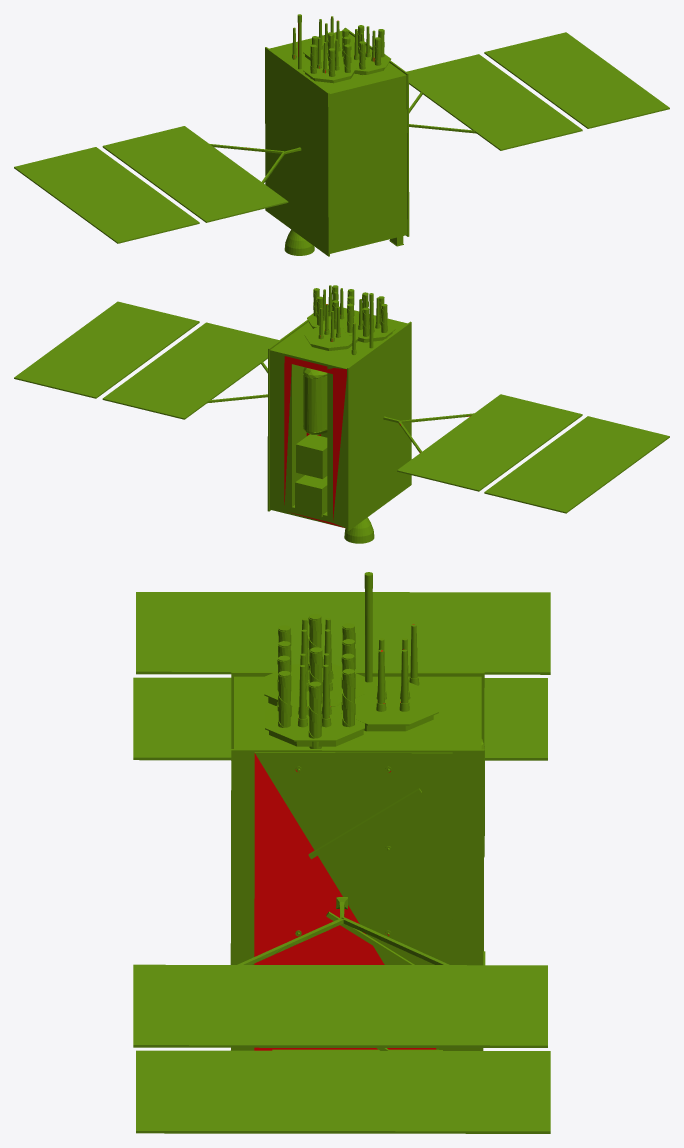
Rendered from matlib_gps_iii.obj.
The picture shows the model from 3 angles, top to bottom: view 1: azimuth 30°, elevation 25°; view 2: azimuth 150°, elevation 25°; view 3: azimuth 270°, elevation 25°; orthographic projection. The views are drawn at different scales.
Visible parts, largest first — view 1: mesh1; view 2: mesh1; view 3: mesh1.
Part boxes in pixels (left/top/right/bottom): mesh1: left=14, top=14, right=669, bottom=256; mesh1: left=14, top=285, right=669, bottom=543; mesh1: left=133, top=572, right=550, bottom=1133.
Bounding box in the file's own units: 12.21 × 5.08 × 4.
